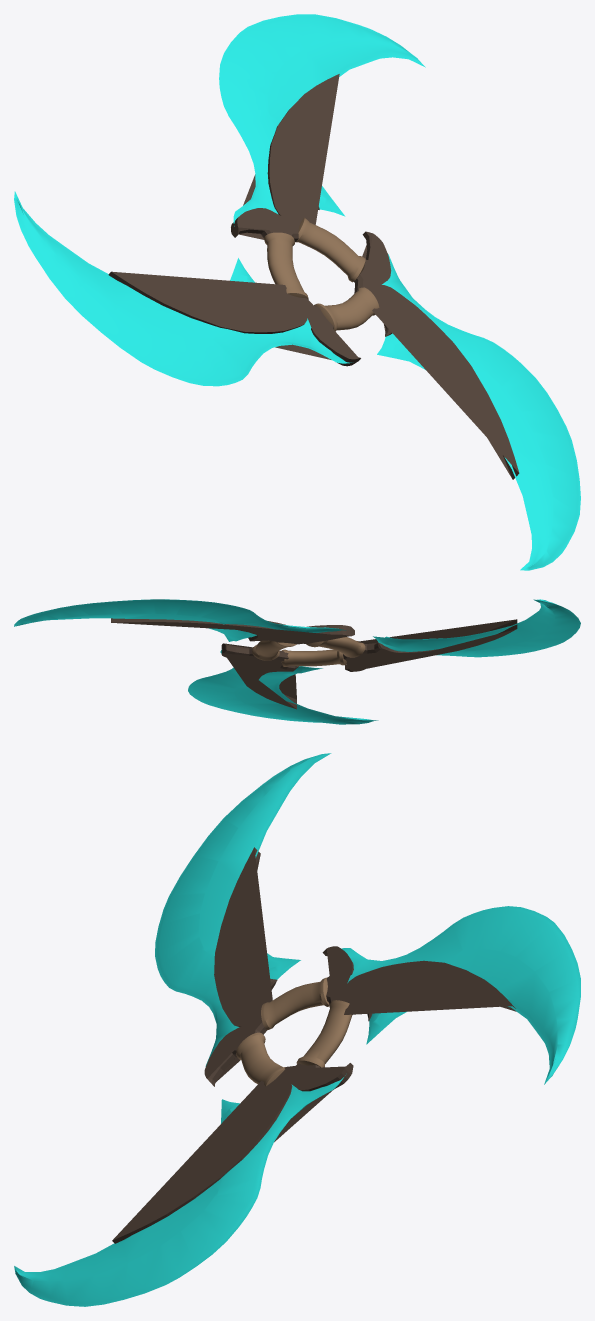
File: flickerBladeKai.fbx
3 renders of one model, top to bottom at view 1: azimuth 30°, elevation 25°; view 2: azimuth 150°, elevation 25°; view 3: azimuth 270°, elevation 25°, orthographic. The views are drawn at different scales.
Parts seen in each view (by area): view 1: Circle.006; view 2: Circle.006; view 3: Circle.006.
Part boxes in pixels (box(x1,y1,x2,y2)): Circle.006: box(14, 14, 580, 570); Circle.006: box(14, 599, 580, 724); Circle.006: box(14, 753, 580, 1306).
Bounding box in the file's own units: 314 × 199 × 290.
